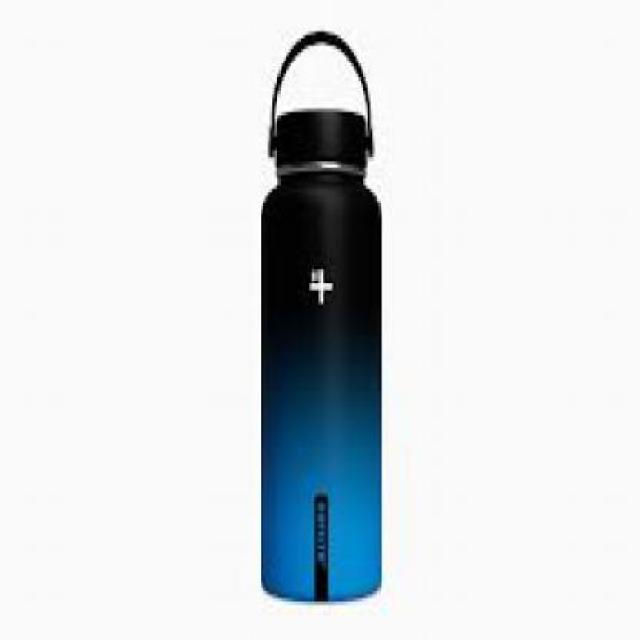Drinking: (242, 28, 391, 615)
